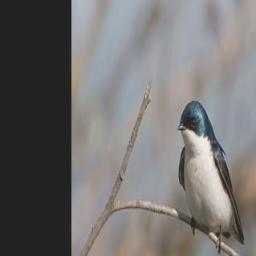Swallow: (178, 98, 246, 256)
